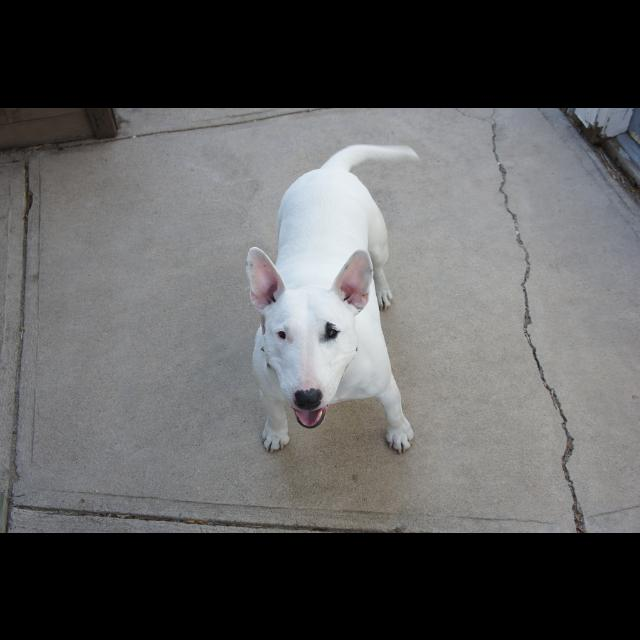bullterrier: (245, 143, 421, 456)
